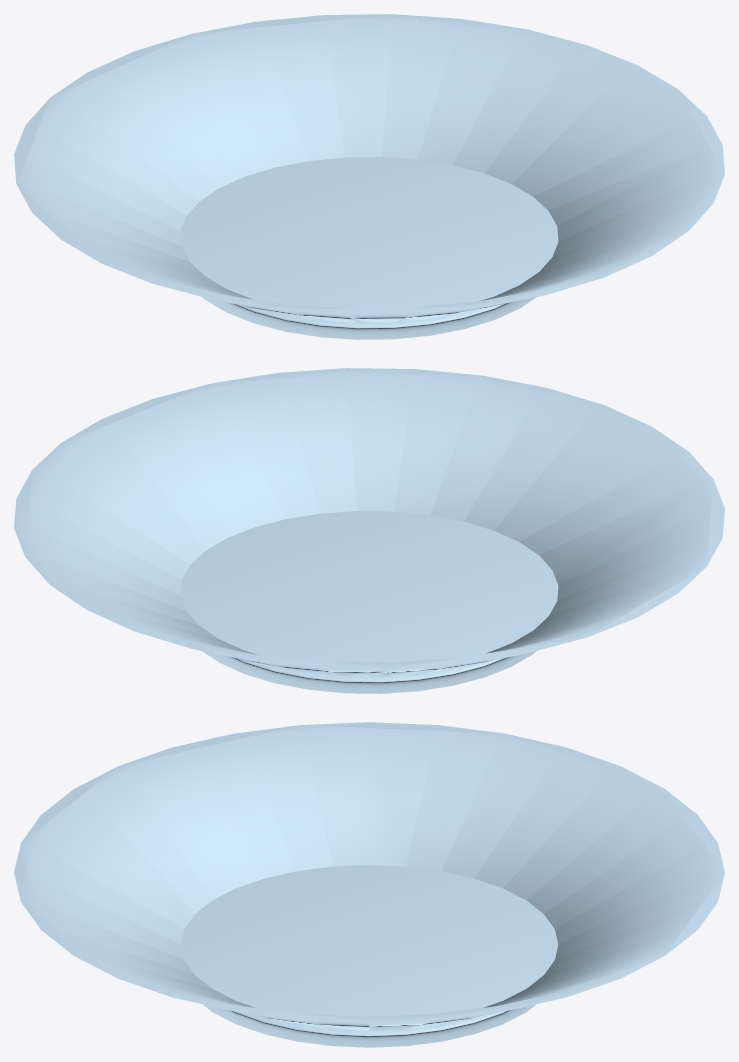
File: plate2.fbx
3 views of the same model, one above another, from view 1: azimuth 30°, elevation 25°; view 2: azimuth 150°, elevation 25°; view 3: azimuth 270°, elevation 25° (orthographic).
Visible parts, largest first — view 1: Cylinder.012; view 2: Cylinder.012; view 3: Cylinder.012.
Boxes of the visible parts, x1,y1,x2,y2 form: Cylinder.012: [14, 14, 724, 339]; Cylinder.012: [14, 368, 724, 693]; Cylinder.012: [14, 722, 724, 1047].
Size of the model in its own units: 286 by 42.28 by 286.
